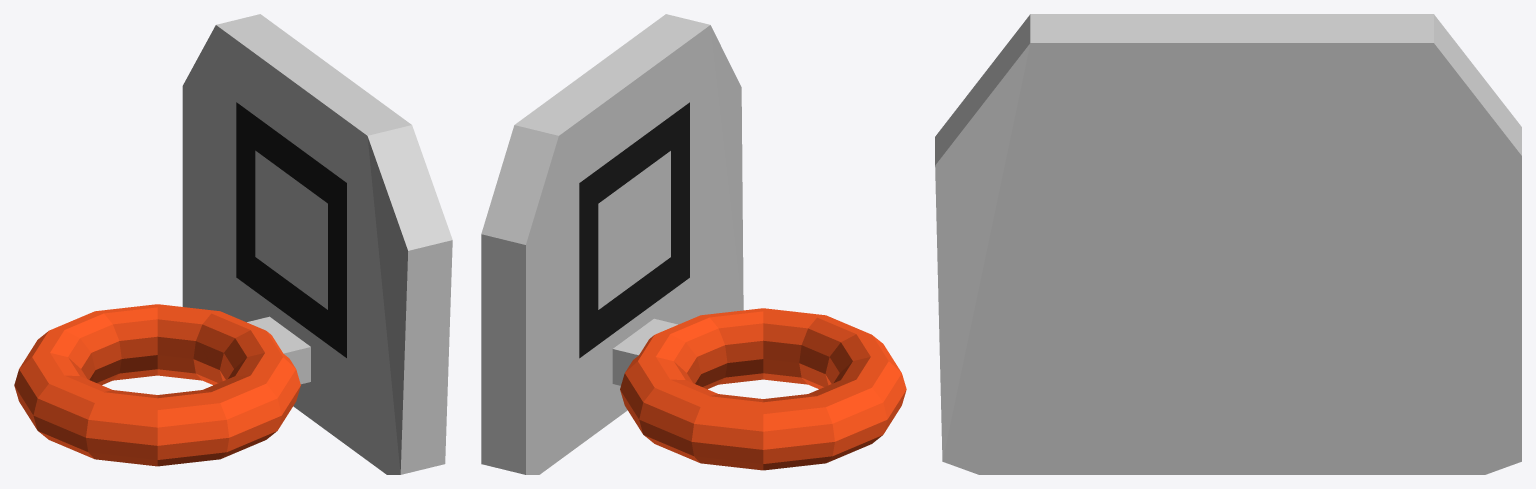
The model's file is group124733058_lev3.glb.
The picture shows the model from 3 angles, left to right: view 1: azimuth 30°, elevation 25°; view 2: azimuth 150°, elevation 25°; view 3: azimuth 270°, elevation 25°; orthographic projection. The views are drawn at different scales.
Visible parts, largest first — view 1: group124733058_lev3; view 2: group124733058_lev3; view 3: group124733058_lev3.
Part boxes in pixels (box(x1,y1,x2,y2)): group124733058_lev3: box(14, 14, 452, 474); group124733058_lev3: box(481, 14, 906, 474); group124733058_lev3: box(935, 14, 1521, 474).
Size of the model in its own units: 0.6997 by 0.7125 by 0.8769.
